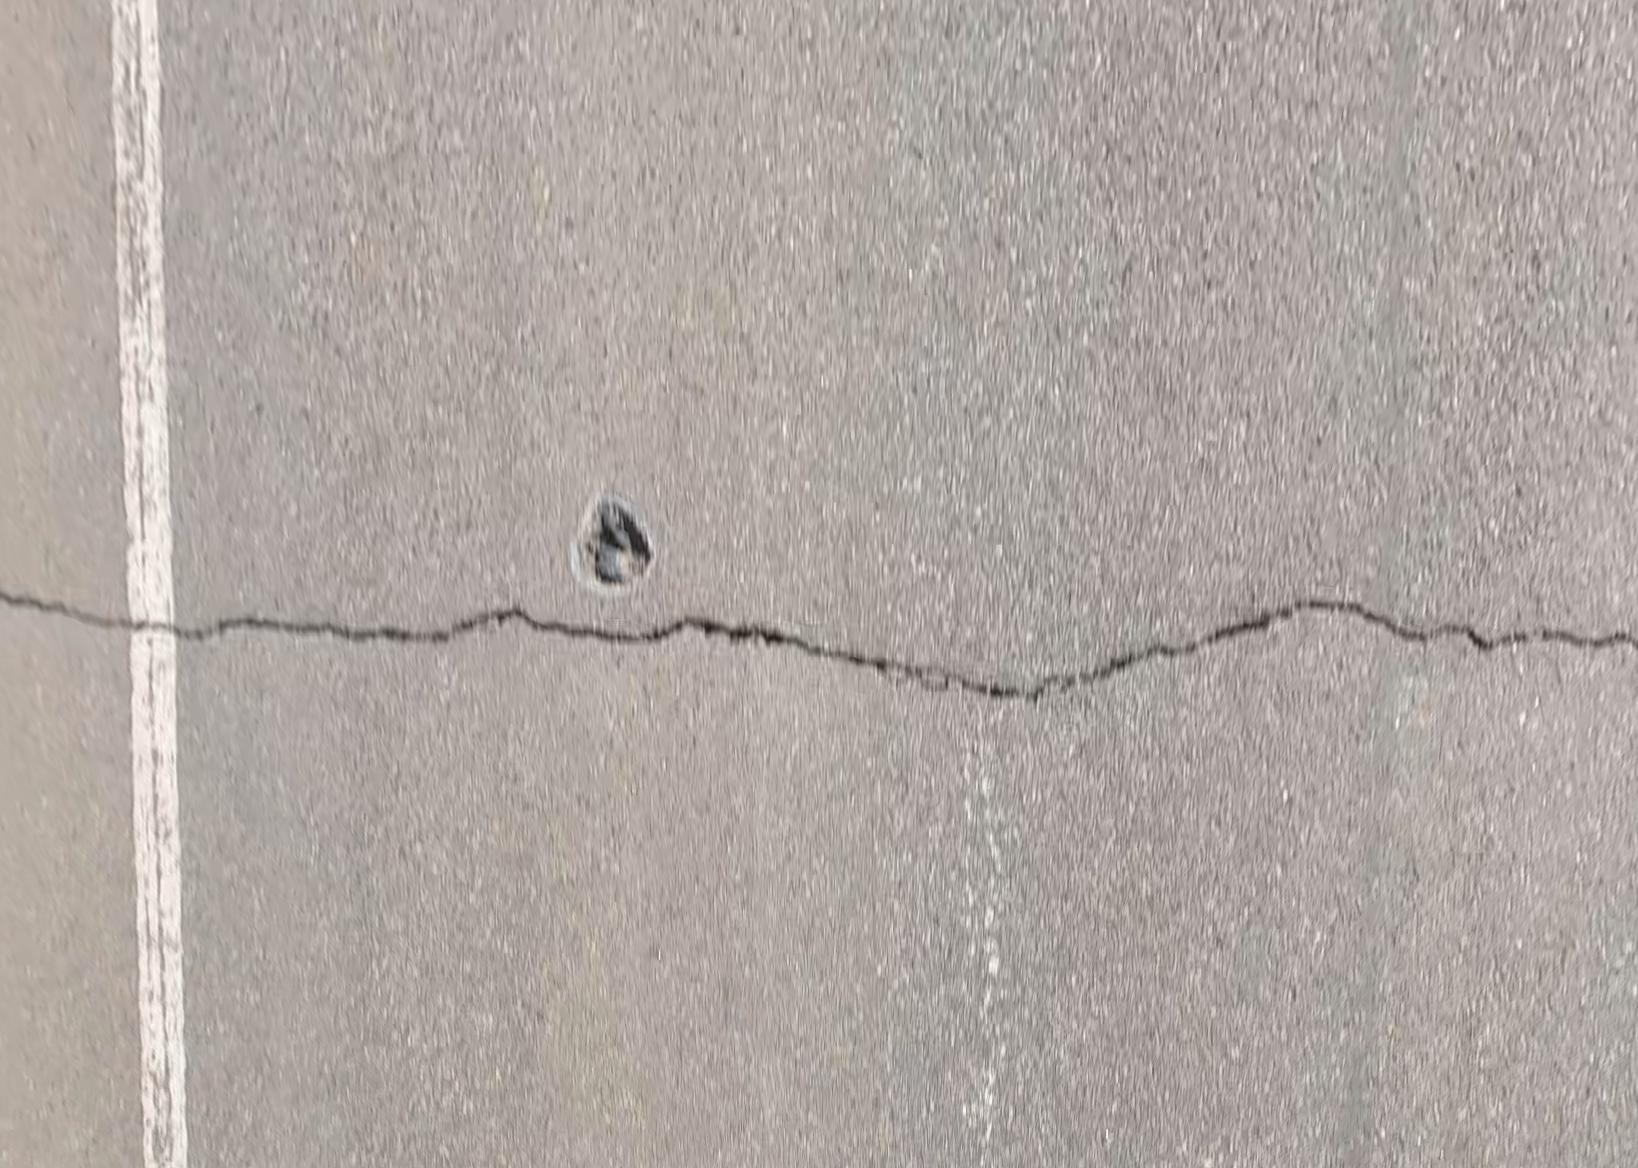pothole: (566, 493, 655, 590)
